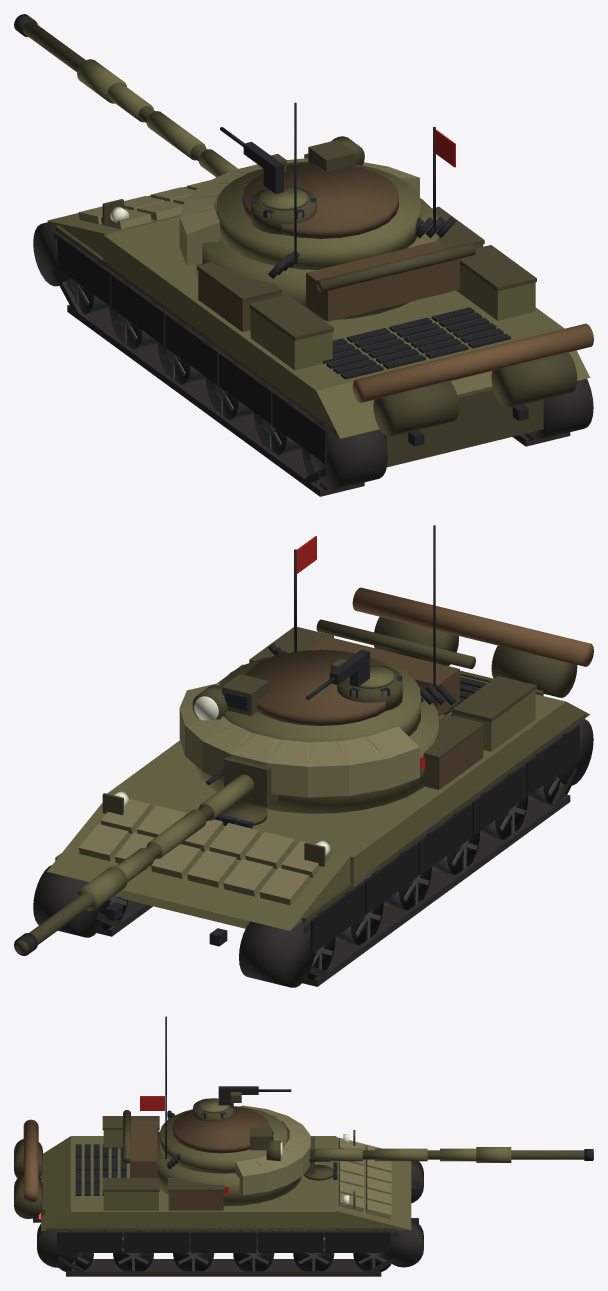
Rendered from MBT_Red.fbx.
3 renders of one model, top to bottom at view 1: azimuth 30°, elevation 25°; view 2: azimuth 150°, elevation 25°; view 3: azimuth 270°, elevation 25°, orthographic. The views are drawn at different scales.
Visible parts, largest first — view 1: UpperHull, TurretDome, TurretTop, TurretStowage, UnditchLog, LowerHull, TrackBottomL, FuelDrumR, FuelDrumL, RearSlope, TrackWrapRearL, RearPlate (+29 smaller); view 2: UpperHull, Glacis, TurretTop, UnditchLog, TurretDome, TrackBottomL, TrackWrapFrontL, TurretBase, FuelDrumL, TurretStowage, TrackWrapFrontR, Snorkel (+47 smaller); view 3: UpperHull, TrackBottomR, TurretTop, Glacis, TurretDome, RearSlope, TurretBase, TurretStowage, SkirtR0, SkirtR1, SkirtR2, SkirtR3 (+32 smaller).
Boxes of the visible parts, bbox=[...] form: UpperHull: bbox=[103, 216, 564, 420]; TurretDome: bbox=[216, 161, 420, 269]; TurretTop: bbox=[242, 163, 398, 238]; TurretStowage: bbox=[306, 240, 459, 321]; UnditchLog: bbox=[352, 323, 593, 402]; LowerHull: bbox=[383, 400, 543, 467]; TrackBottomL: bbox=[67, 305, 364, 496]; FuelDrumR: bbox=[491, 352, 577, 408]; FuelDrumL: bbox=[373, 380, 458, 436]; RearSlope: bbox=[316, 350, 590, 438]; TrackWrapRearL: bbox=[309, 422, 387, 489]; RearPlate: bbox=[384, 386, 543, 466]; UpperHull: bbox=[107, 675, 566, 887]; Glacis: bbox=[47, 803, 350, 930]; TurretTop: bbox=[245, 649, 388, 725]; UnditchLog: bbox=[352, 587, 593, 666]; TurretDome: bbox=[219, 654, 420, 742]; TrackBottomL: bbox=[302, 794, 570, 986]; TrackWrapFrontL: bbox=[239, 921, 314, 987]; TurretBase: bbox=[195, 695, 438, 813]; FuelDrumL: bbox=[491, 645, 577, 697]; TurretStowage: bbox=[310, 637, 459, 717]; TrackWrapFrontR: bbox=[33, 865, 109, 937]; Snorkel: bbox=[316, 619, 475, 669]; UpperHull: bbox=[71, 1136, 336, 1230]; TrackBottomR: bbox=[66, 1259, 381, 1276]; TurretTop: bbox=[172, 1106, 269, 1153]; Glacis: bbox=[336, 1137, 411, 1229]; TurretDome: bbox=[160, 1106, 287, 1173]; RearSlope: bbox=[41, 1136, 70, 1230]; TurretBase: bbox=[157, 1131, 301, 1206]; TurretStowage: bbox=[130, 1121, 157, 1177]; SkirtR0: bbox=[325, 1232, 390, 1252]; SkirtR1: bbox=[258, 1232, 323, 1252]; SkirtR2: bbox=[191, 1232, 256, 1252]; SkirtR3: bbox=[124, 1232, 188, 1252].
Size of the model in its own units: 367 by 1159 by 442.
